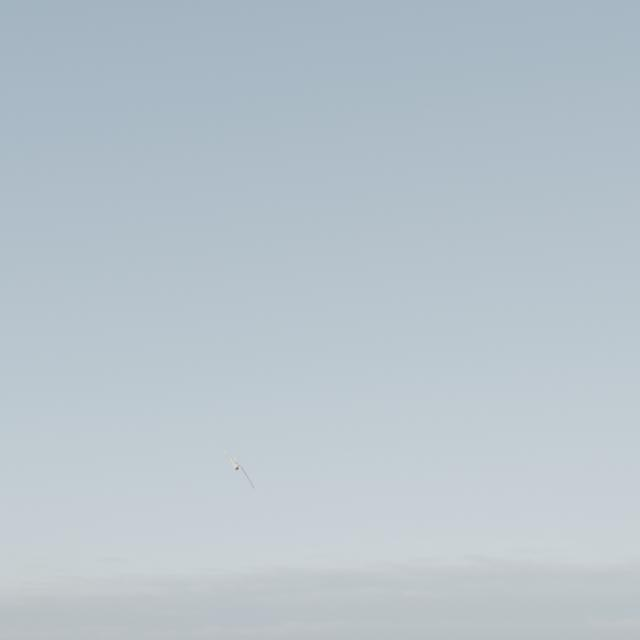Airaplan: (220, 446, 254, 489)
